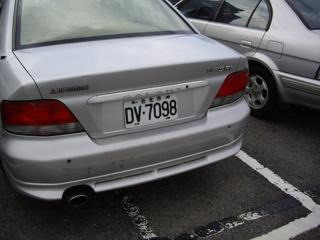plate: (121, 97, 181, 125)
